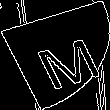M_N: (16, 23, 94, 87)
